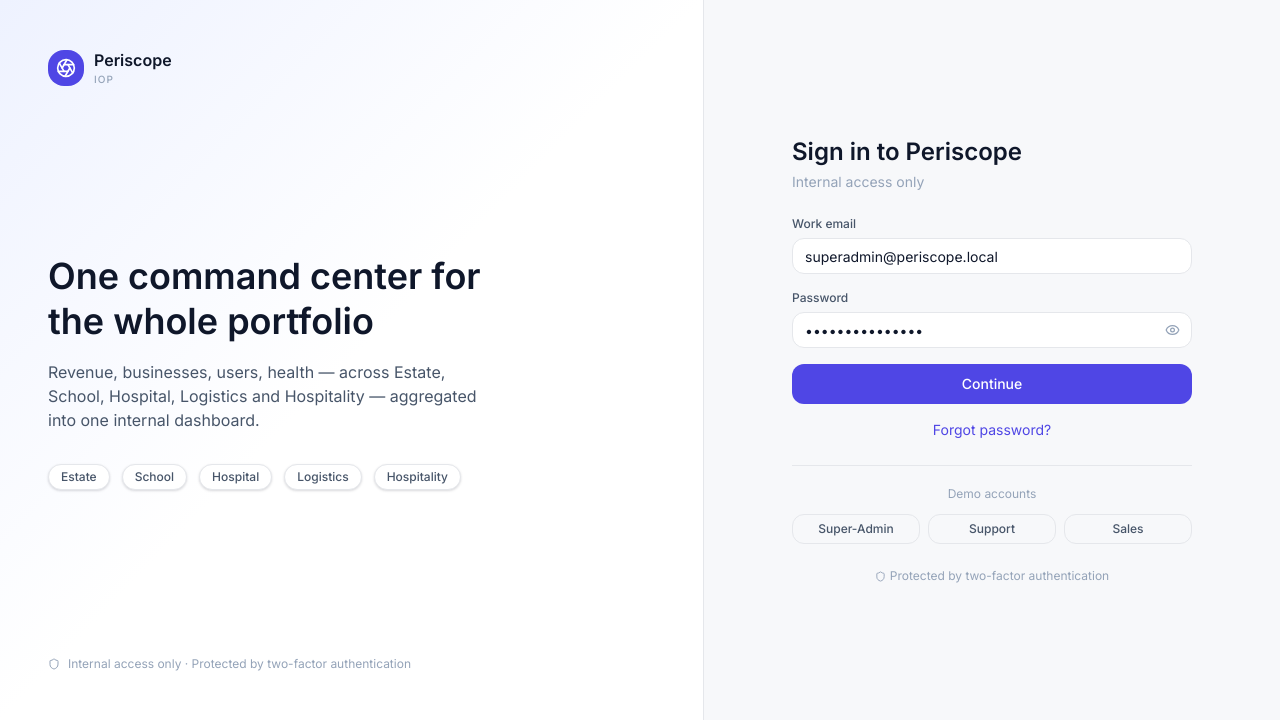
LoginPage › shows error message on failed login
What coordinates should you click on to do the following:
click the button "Continue"
I would click on:
 (992, 384)
Its box is [792,364,1192,404].
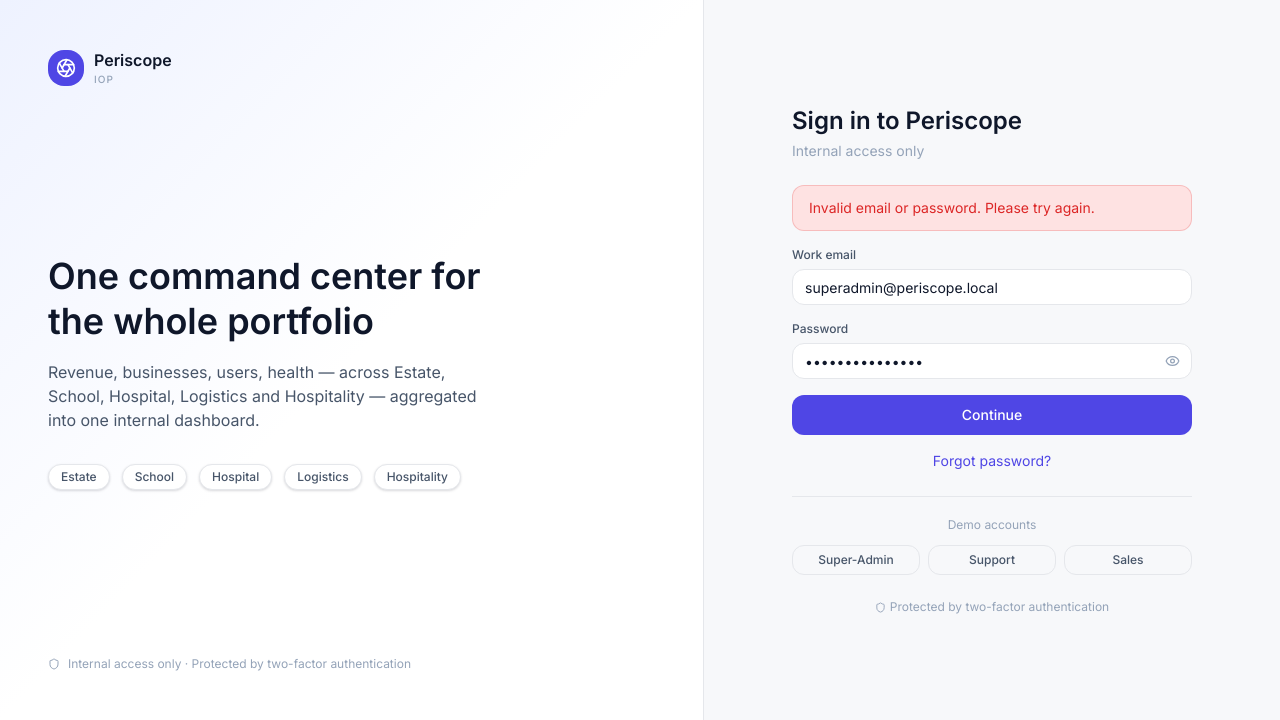
Result: the text "Invalid email or password. Please try again." is shown at [792,185,1192,231]
